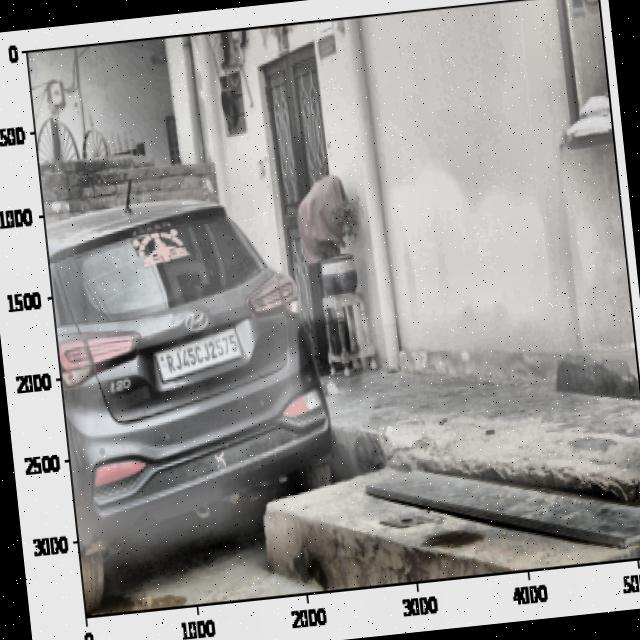license_plate: (158, 328, 244, 382)
